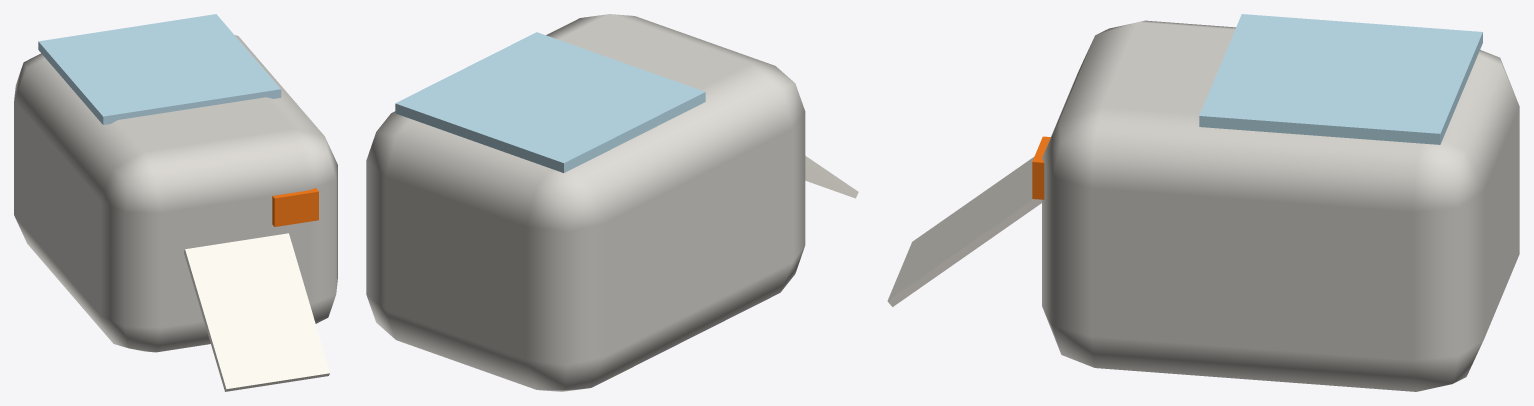
Rendered from station_processing_ausstattung_2_1.glb.
The picture shows the model from 3 angles, left to right: view 1: azimuth 30°, elevation 25°; view 2: azimuth 150°, elevation 25°; view 3: azimuth 270°, elevation 25°; orthographic projection. The views are drawn at different scales.
Visible parts, largest first — view 1: station_processing_ausstattung_2_1; view 2: station_processing_ausstattung_2_1; view 3: station_processing_ausstattung_2_1.
Boxes of the visible parts, box(x1,y1,x2,y2) form: station_processing_ausstattung_2_1: box(14, 14, 337, 391); station_processing_ausstattung_2_1: box(366, 14, 858, 391); station_processing_ausstattung_2_1: box(887, 14, 1519, 391).
Size of the model in its own units: 0.1854 by 0.144 by 0.3098.
